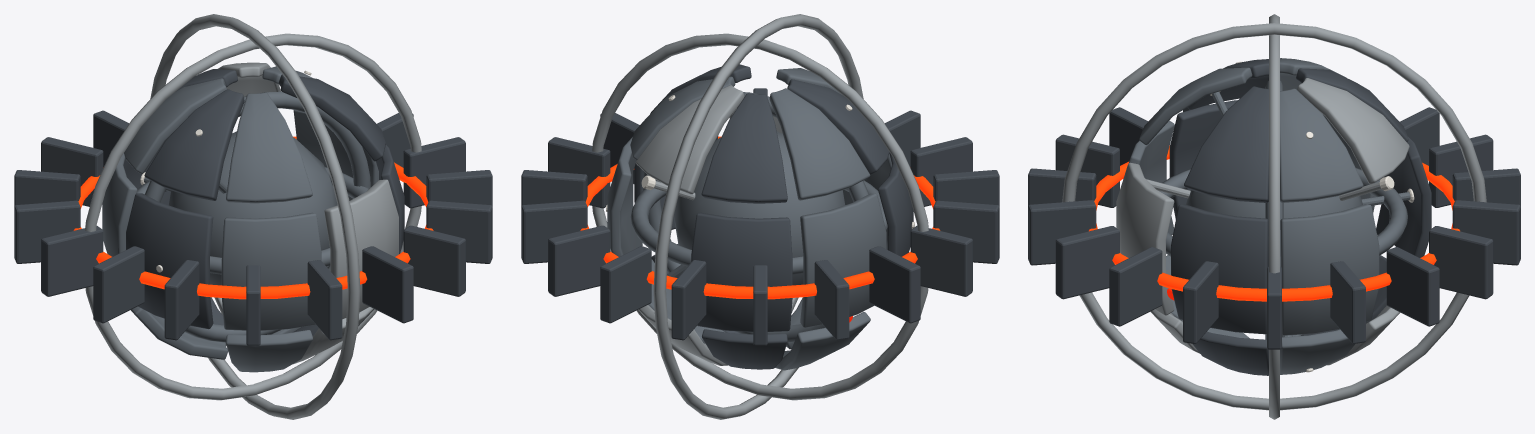
The model's file is orbit-star-balanced.glb.
3 renders of one model, left to right at view 1: azimuth 30°, elevation 25°; view 2: azimuth 150°, elevation 25°; view 3: azimuth 270°, elevation 25°, orthographic. The views are drawn at different scales.
Parts seen in each view (by area): view 1: ReactorSun_MID_Ring_1, ReactorSun_MID_ArmourTile_01_01, ReactorSun_MID_Ring_2, ReactorSun_MID_ArmourTile_00_01, ReactorSun_MID_ArmourTile_01_00, ReactorSun_MID_ArmourTile_00_00, ReactorSun_MID_Core, ReactorSun_MID_ArmourTile_01_02, ReactorSun_MID_Fin_15, ReactorSun_MID_Fin_09, ReactorSun_MID_ArmourTile_00_07, ReactorSun_MID_Fin_14 (+25 smaller); view 2: ReactorSun_MID_Ring_1, ReactorSun_MID_ArmourTile_01_06, ReactorSun_MID_Ring_2, ReactorSun_MID_ArmourTile_00_06, ReactorSun_MID_ArmourTile_01_07, ReactorSun_MID_ArmourTile_00_07, ReactorSun_MID_Core, ReactorSun_MID_ArmourTile_00_05, ReactorSun_MID_Fin_03, ReactorSun_MID_Fin_09, ReactorSun_MID_Fin_04, ReactorSun_MID_ArmourTile_00_00 (+25 smaller); view 3: ReactorSun_MID_Ring_2, ReactorSun_MID_ArmourTile_01_04, ReactorSun_MID_ArmourTile_01_03, ReactorSun_MID_ArmourTile_00_03, ReactorSun_MID_ArmourTile_00_04, ReactorSun_MID_ArmourTile_00_05, ReactorSun_MID_ArmourTile_01_02, ReactorSun_MID_Fin_03, ReactorSun_MID_Fin_15, ReactorSun_MID_Ring_1, ReactorSun_MID_Ring_0, ReactorSun_MID_Fin_02 (+26 smaller).
Boxes of the visible parts, <box> form: ReactorSun_MID_Ring_1: <box>85,33,421,400</box>; ReactorSun_MID_ArmourTile_01_01: <box>221,212,321,330</box>; ReactorSun_MID_Ring_2: <box>150,14,360,419</box>; ReactorSun_MID_ArmourTile_00_01: <box>226,92,312,203</box>; ReactorSun_MID_ArmourTile_01_00: <box>126,193,213,329</box>; ReactorSun_MID_ArmourTile_00_00: <box>144,89,244,200</box>; ReactorSun_MID_Core: <box>169,131,337,285</box>; ReactorSun_MID_ArmourTile_01_02: <box>324,179,398,319</box>; ReactorSun_MID_Fin_15: <box>403,225,465,296</box>; ReactorSun_MID_Fin_09: <box>41,226,103,296</box>; ReactorSun_MID_ArmourTile_00_07: <box>124,78,226,173</box>; ReactorSun_MID_Fin_14: <box>362,246,413,323</box>; ReactorSun_MID_Ring_1: <box>592,33,928,400</box>; ReactorSun_MID_ArmourTile_01_06: <box>691,212,792,331</box>; ReactorSun_MID_Ring_2: <box>653,14,863,419</box>; ReactorSun_MID_ArmourTile_00_06: <box>701,93,787,203</box>; ReactorSun_MID_ArmourTile_01_07: <box>800,193,886,327</box>; ReactorSun_MID_ArmourTile_00_07: <box>769,88,870,200</box>; ReactorSun_MID_Core: <box>673,131,844,285</box>; ReactorSun_MID_ArmourTile_00_05: <box>636,85,744,194</box>; ReactorSun_MID_Fin_03: <box>548,225,610,296</box>; ReactorSun_MID_Fin_09: <box>910,226,972,296</box>; ReactorSun_MID_Fin_04: <box>600,246,651,323</box>; ReactorSun_MID_ArmourTile_00_00: <box>787,79,889,174</box>; ReactorSun_MID_Ring_2: <box>1062,23,1486,410</box>; ReactorSun_MID_ArmourTile_01_04: <box>1280,204,1379,335</box>; ReactorSun_MID_ArmourTile_01_03: <box>1171,204,1268,334</box>; ReactorSun_MID_ArmourTile_00_03: <box>1184,86,1268,202</box>; ReactorSun_MID_ArmourTile_00_04: <box>1280,88,1363,202</box>; ReactorSun_MID_ArmourTile_00_05: <box>1297,78,1409,184</box>; ReactorSun_MID_ArmourTile_01_02: <box>1116,162,1174,315</box>; ReactorSun_MID_Fin_03: <box>1429,226,1493,299</box>; ReactorSun_MID_Fin_15: <box>1055,226,1119,299</box>; ReactorSun_MID_Ring_1: <box>1269,14,1279,419</box>; ReactorSun_MID_Ring_0: <box>1089,145,1459,301</box>; ReactorSun_MID_Fin_02: <box>1386,247,1439,326</box>.
Bounding box in the file's own units: 9.25 × 7.94 × 9.14.
